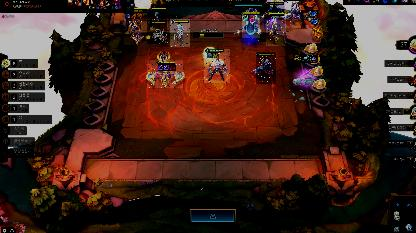1_aurelionsol: (242, 12, 260, 38), (266, 2, 284, 20)
1_nidalee: (149, 8, 167, 28)
2_nidalee: (170, 19, 190, 47)
2_sylas: (204, 49, 230, 83)
2_twitch: (147, 20, 167, 44)
2_vladimir: (256, 52, 276, 84), (285, 0, 301, 28)
3_lux: (266, 12, 286, 46)
3_skarner: (147, 60, 183, 88)
3_varus: (124, 11, 142, 45)
